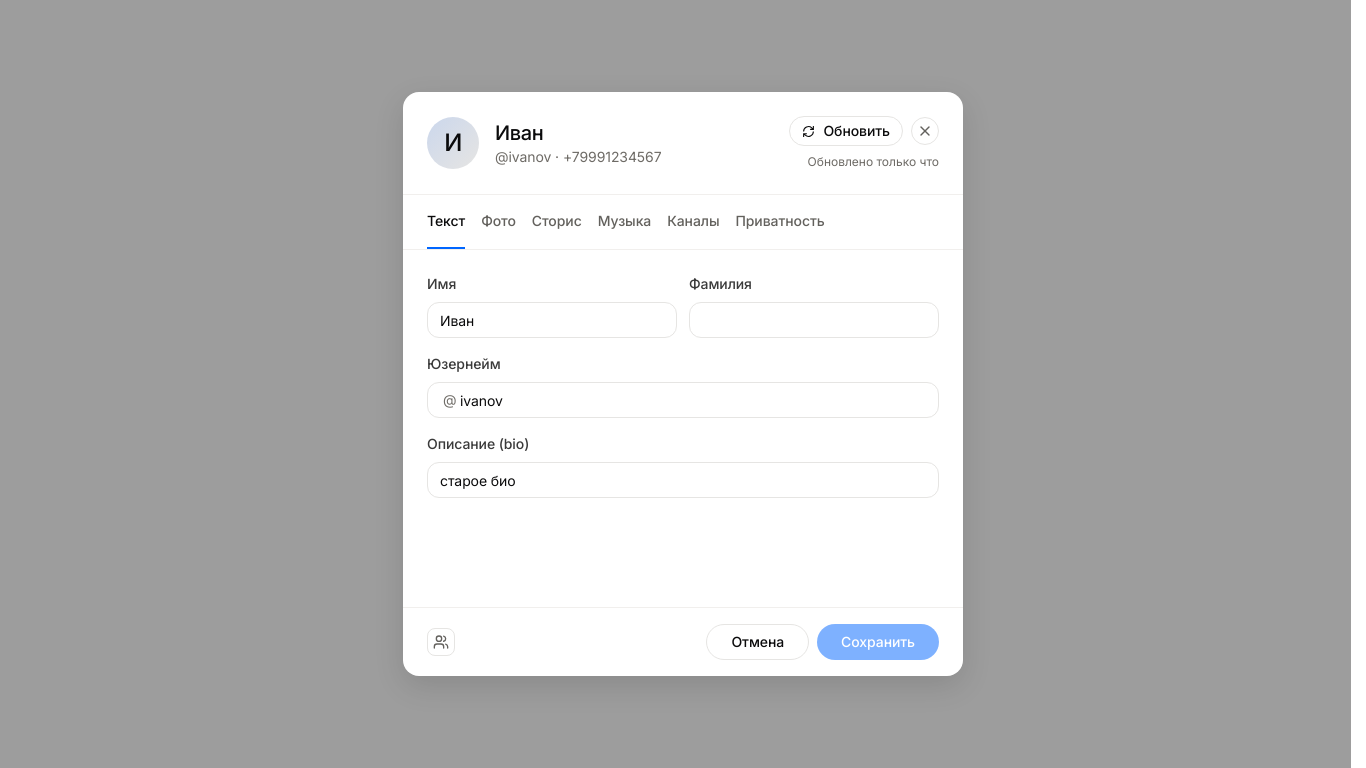
Scenario: editing the bio again clears a stale not-applied warning
This screenshot has width=1366, height=768.
Replace the text in the text box showing "старое био" with "мой канал @somewhere" at (683, 480), box [427,462,939,498]
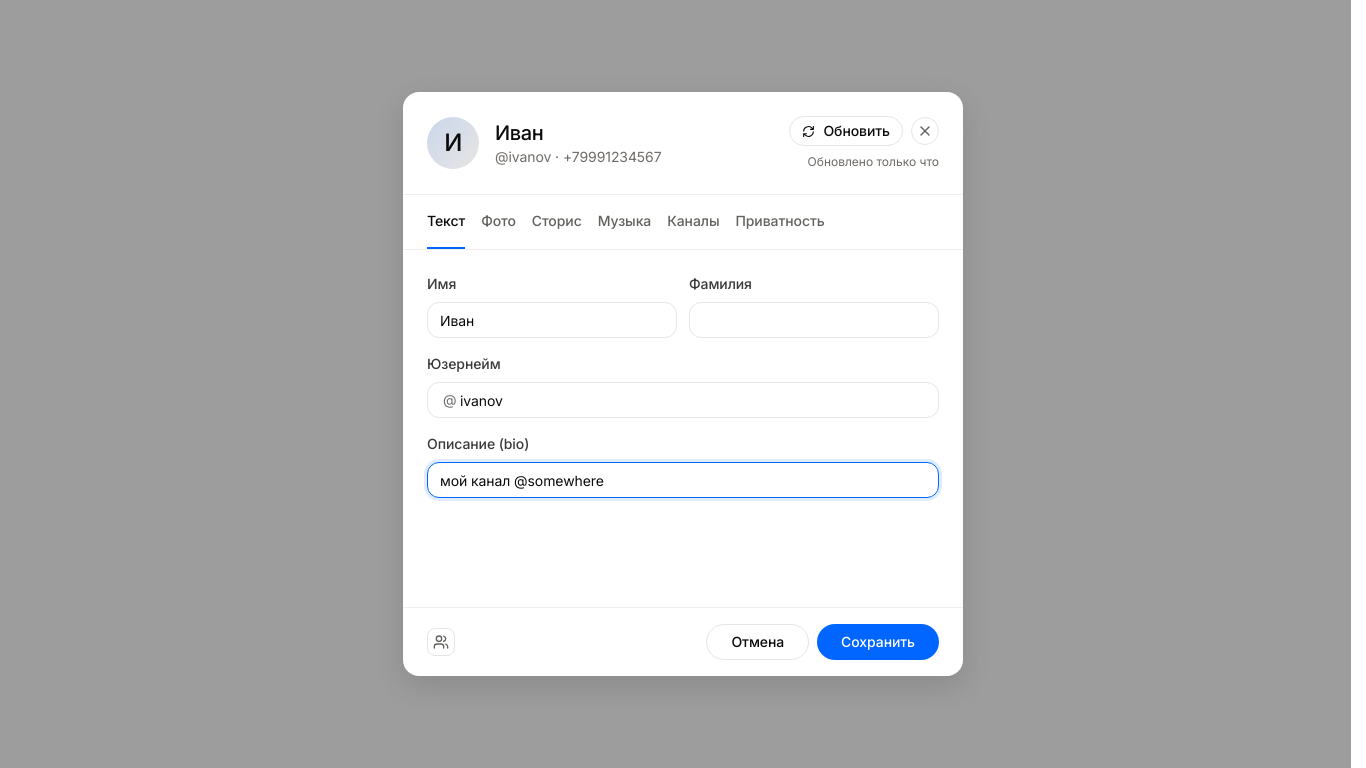
Click the button "Сохранить" at (878, 642), box [817,624,939,660]
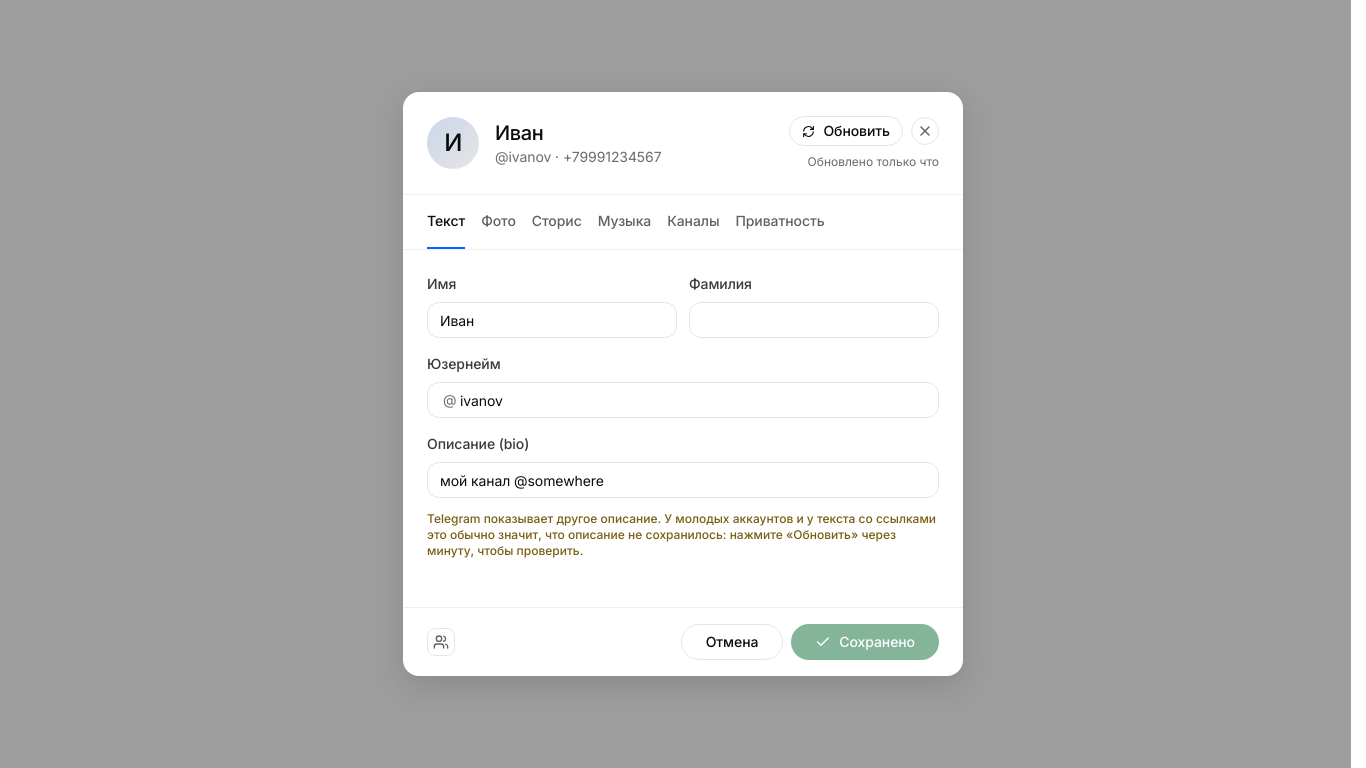
expect the message with test id "bio-not-applied" is shown: met, box [427,511,939,559]
Type "x" into the text box with test id "profile-bio" at (683, 480), box [427,462,939,498]
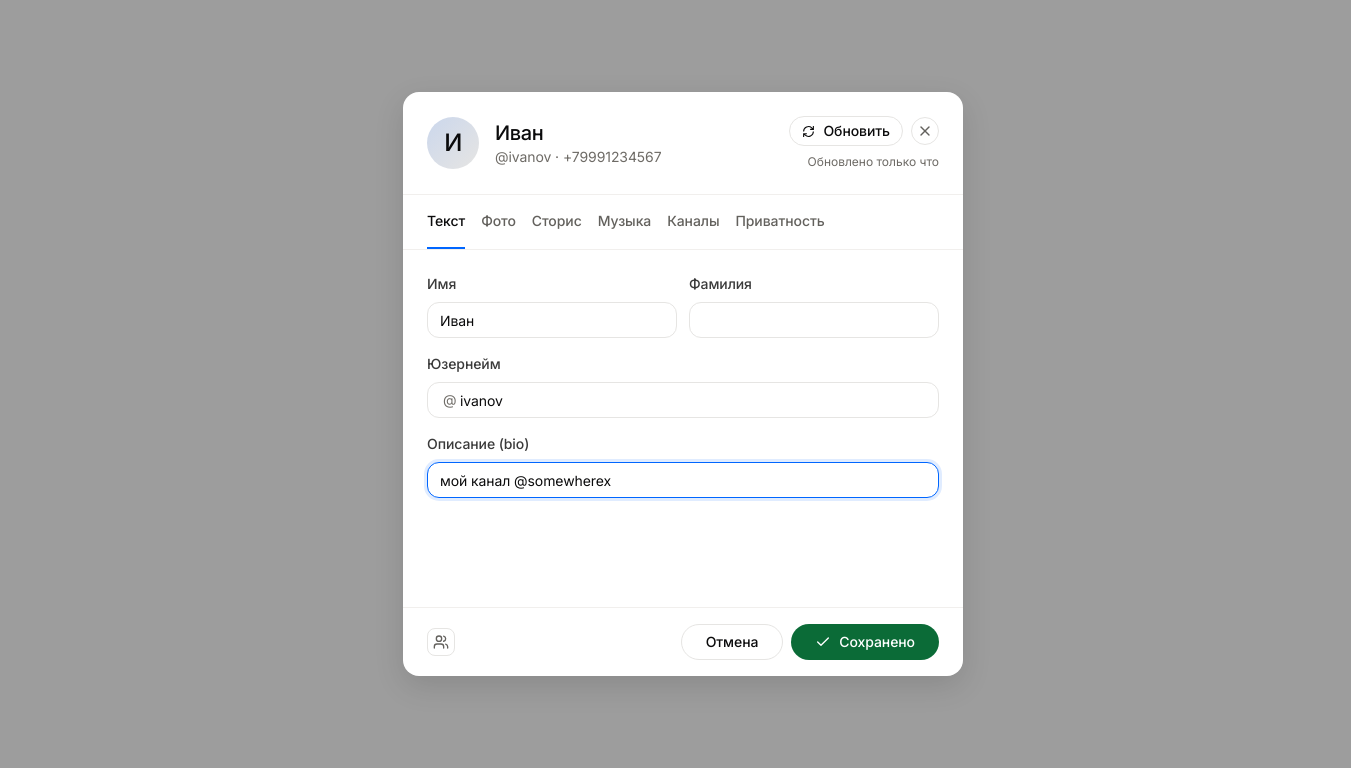
expect the message with test id "bio-not-applied" is gone: met
